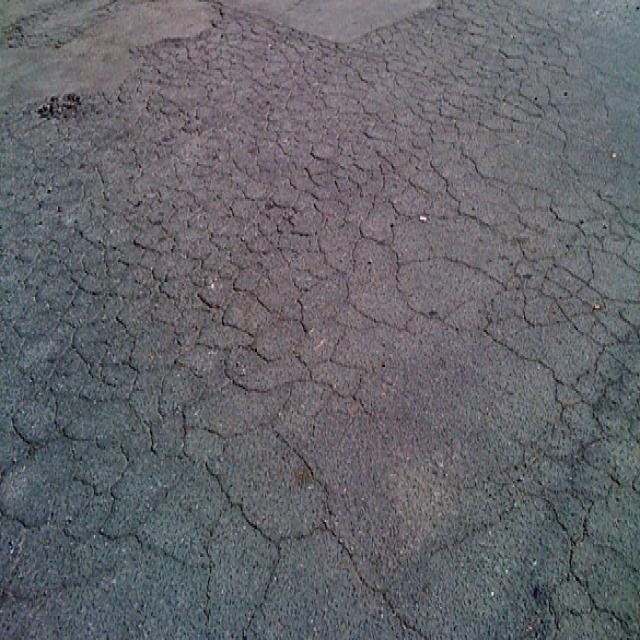Drain Hole: (134, 62, 529, 375)
